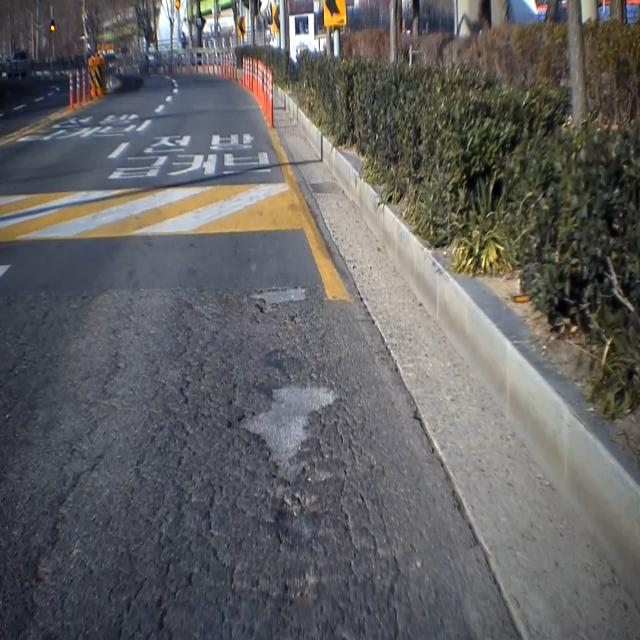Pothole: (225, 374, 344, 495), (268, 476, 318, 556), (243, 282, 312, 316)
